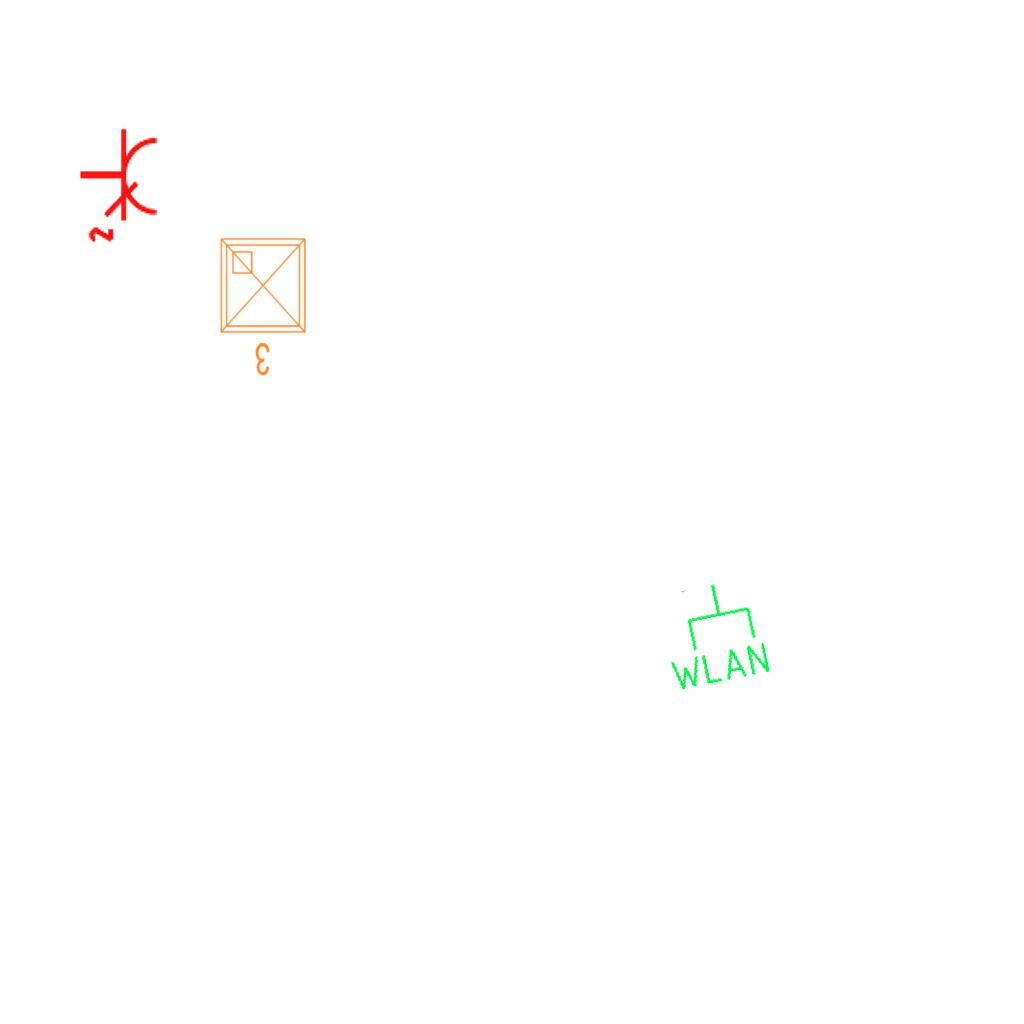Einbaudownlights_LED_Konferenzraeume: (213, 231, 317, 381)
Schukosteckdose_mehrfach: (74, 124, 162, 245)
WLAN: (650, 572, 776, 697)
